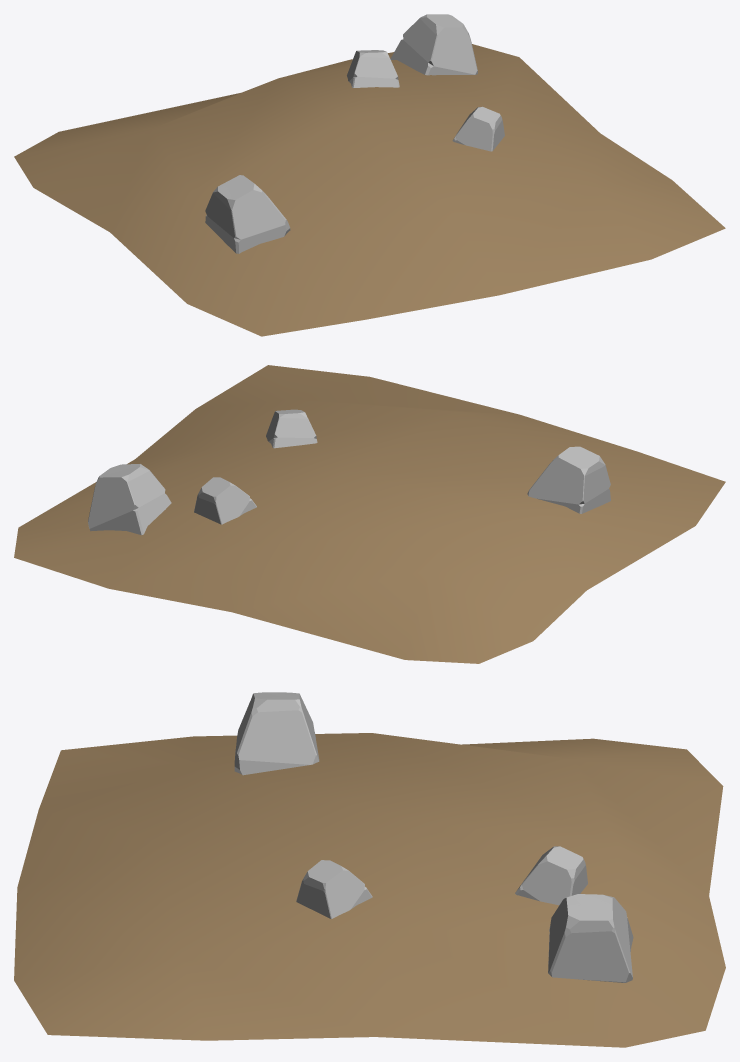
Rendered from rubble.fbx.
3 renders of one model, top to bottom at view 1: azimuth 30°, elevation 25°; view 2: azimuth 150°, elevation 25°; view 3: azimuth 270°, elevation 25°, orthographic. The views are drawn at different scales.
Parts seen in each view (by area): view 1: bones.010; view 2: bones.010; view 3: bones.010.
Part boxes in pixels (x1=…): bones.010: x1=14, y1=14, x2=725, y2=336; bones.010: x1=14, y1=365, x2=725, y2=663; bones.010: x1=14, y1=692, x2=725, y2=1047.
Size of the model in its own units: 420 by 60.61 by 406.
